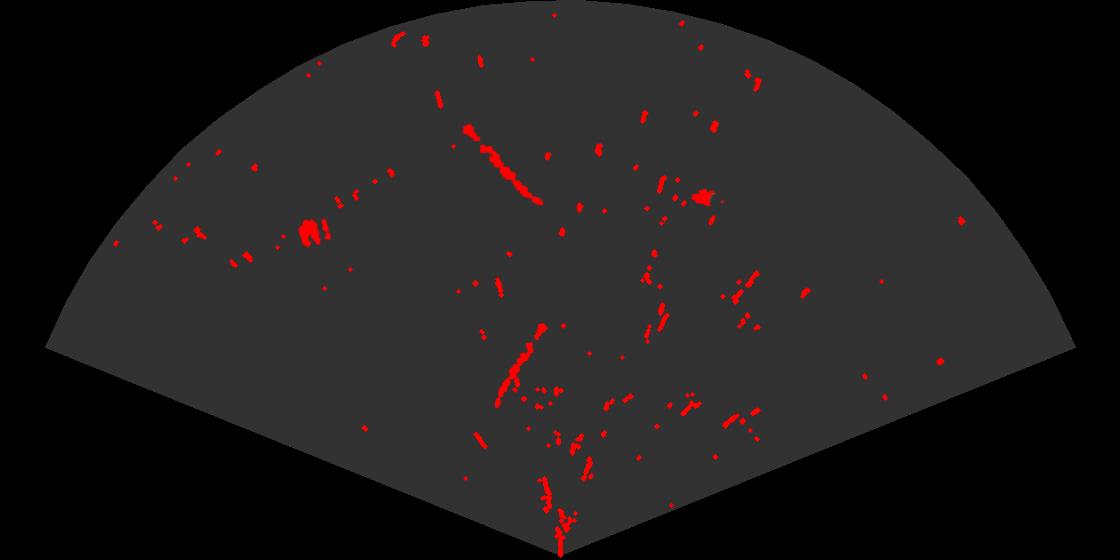AUV: (689, 187, 726, 208)
ball: (297, 217, 333, 249)
chain: (461, 122, 545, 207), (493, 321, 549, 410)
